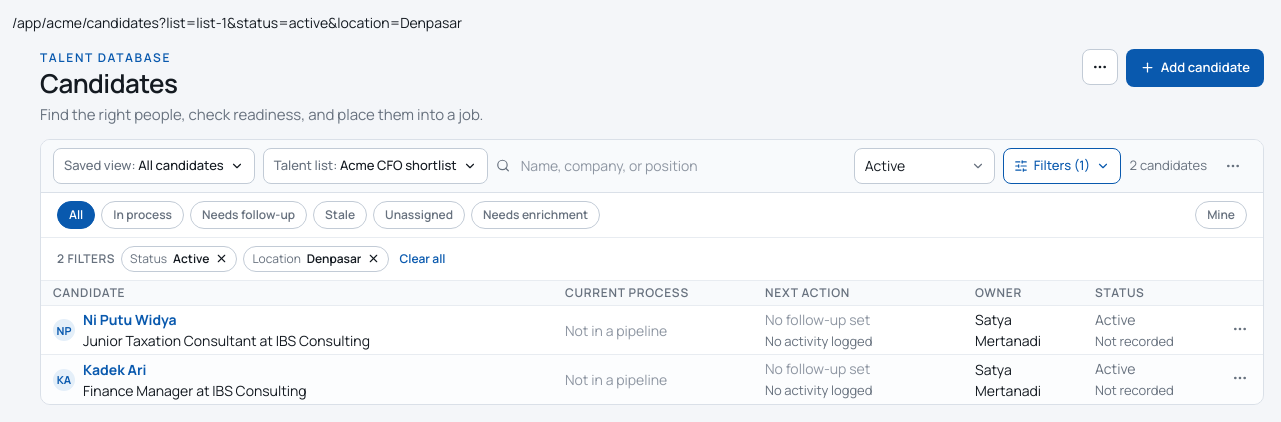
CandidatesPage talent lists › does not clear the list when the filters are cleared
The image size is (1281, 422).
Click the button "Clear all". click: (422,259)
box: [396,248,450,270]
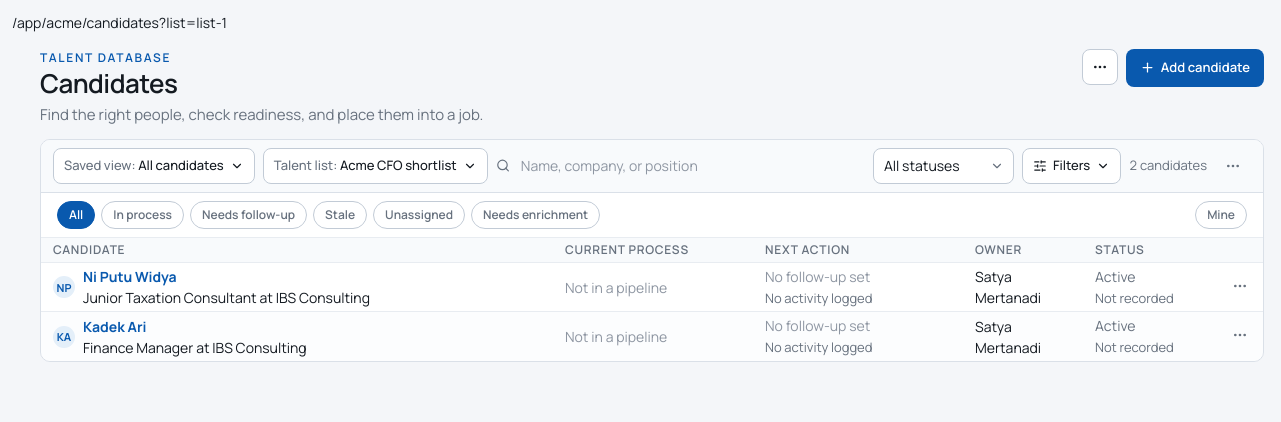
Expected: the text with test id "search" shows "list=list-1", [159,13,227,32]
Expected: the text with test id "search" no longer shows "status=active"
